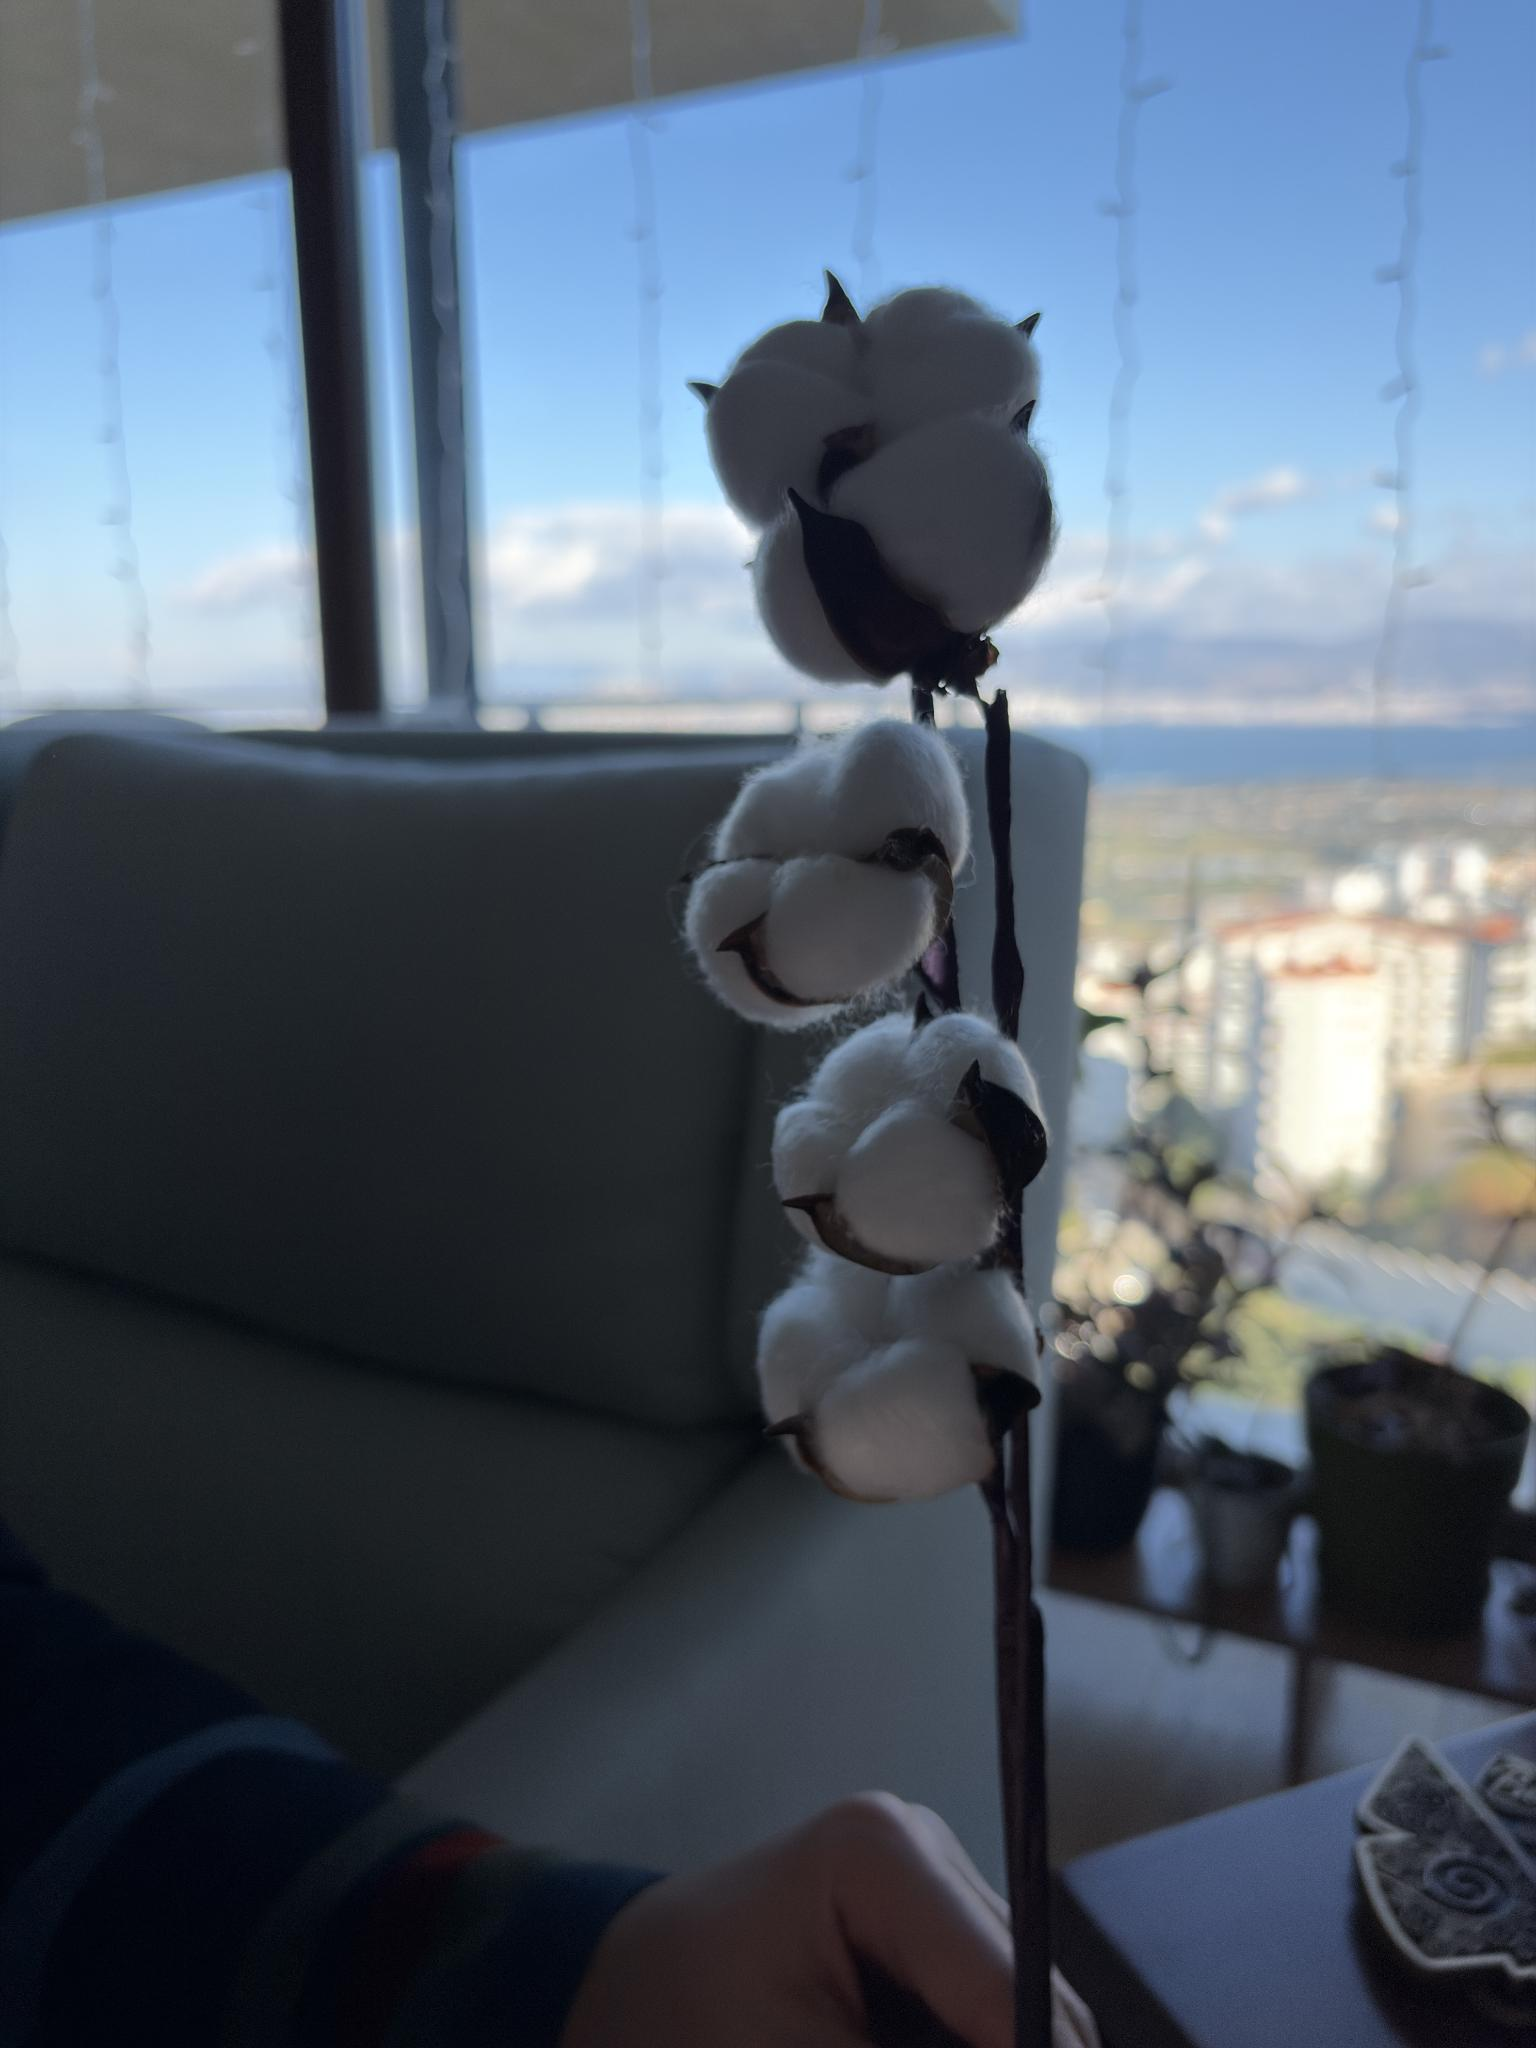cotton_boll: (828, 414, 1052, 632), (813, 1337, 995, 1503), (833, 1103, 1000, 1269), (705, 356, 865, 526), (684, 860, 836, 1029), (762, 856, 933, 998), (818, 719, 970, 874), (752, 508, 874, 682), (873, 319, 1039, 432), (887, 1268, 1037, 1380), (757, 1279, 873, 1424), (710, 739, 836, 861), (907, 1013, 1044, 1119), (803, 1014, 913, 1129), (865, 287, 1007, 353), (773, 1097, 863, 1200), (797, 1248, 891, 1332), (736, 319, 855, 384), (936, 1068, 937, 1071)
cotton_boll-cluster: (705, 279, 1083, 698), (676, 721, 995, 1034), (715, 1227, 1047, 1509), (744, 1018, 1065, 1274)
